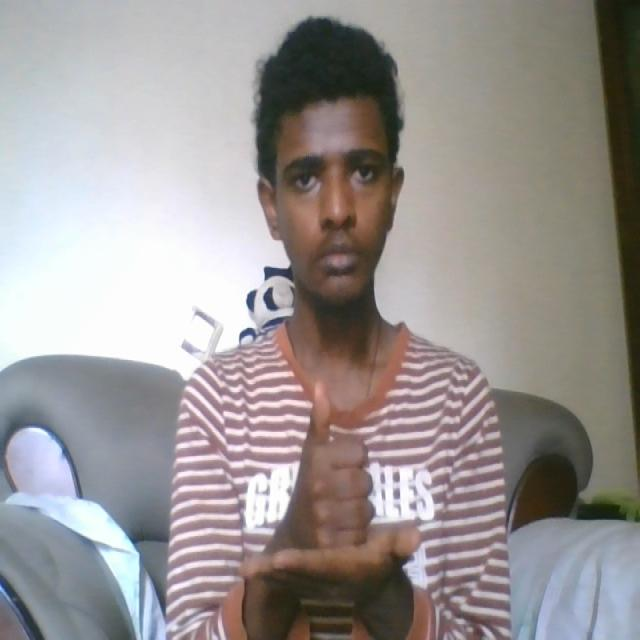amen: (234, 377, 432, 594)
